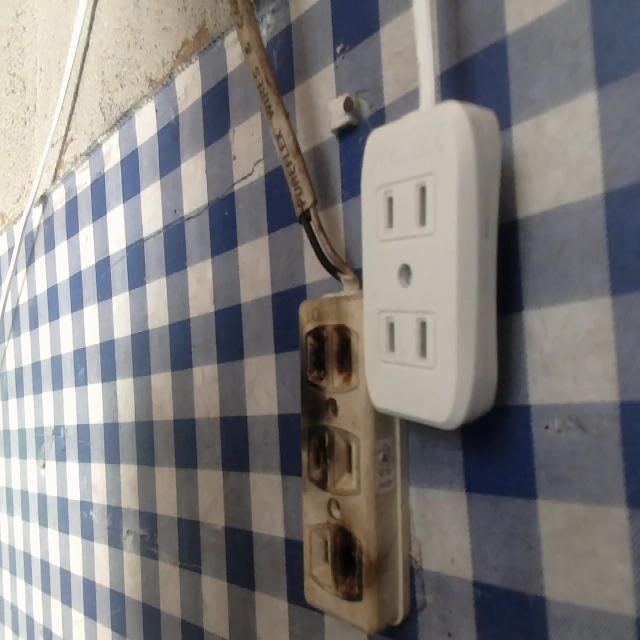-: (292, 315, 360, 396), (326, 519, 377, 608), (296, 424, 341, 493)
